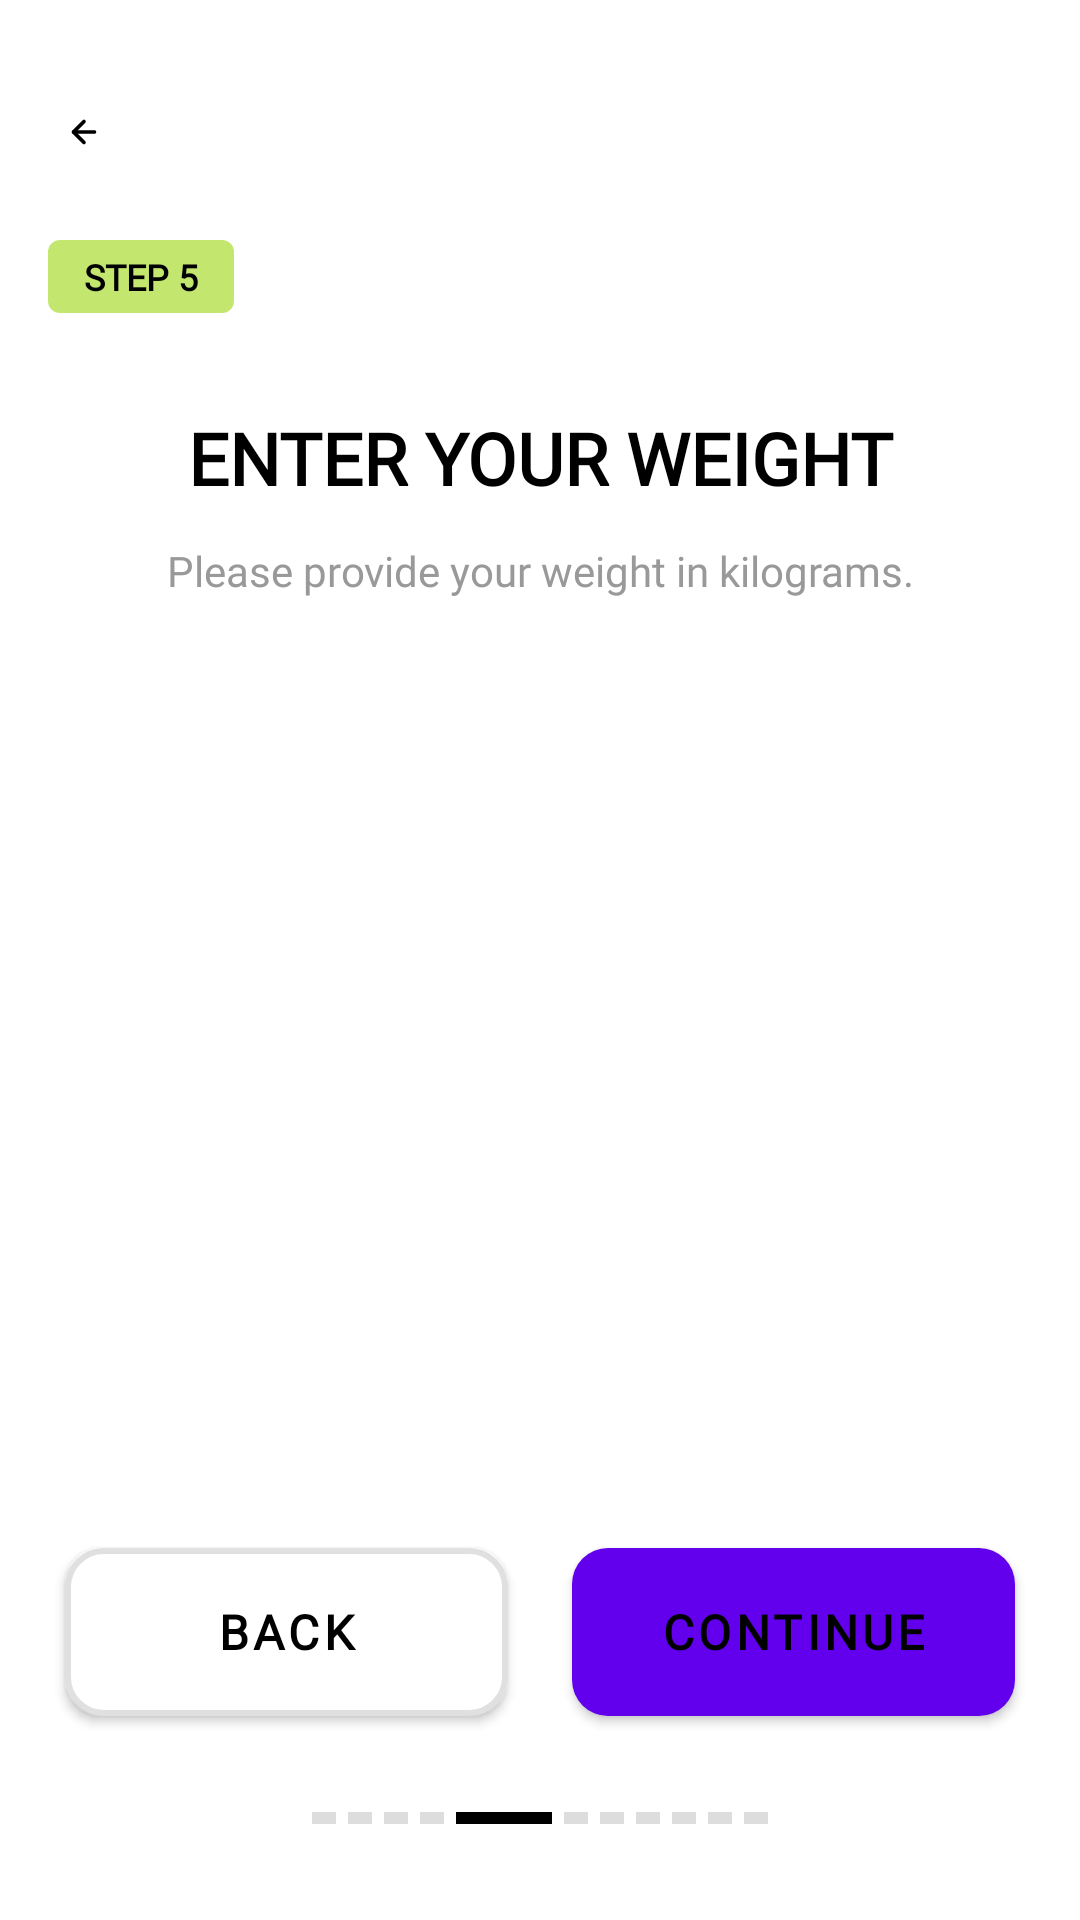

Point at icon controls on the screen. Image size 1080×1920, points as (x,y).
Back: (84,132)
